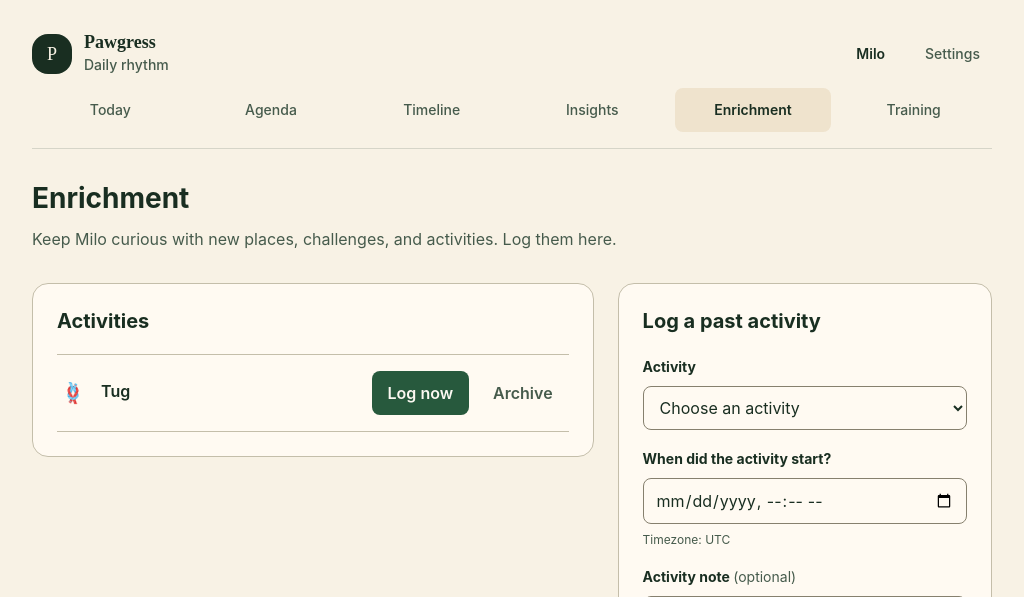
EnrichmentPage › maps archived races and mutation failures to accessible messages
The width and height of the screenshot is (1024, 597).
Click the button with aria-label "Log Tug now" at (420, 393), box x1=372 y1=371 x2=469 y2=415
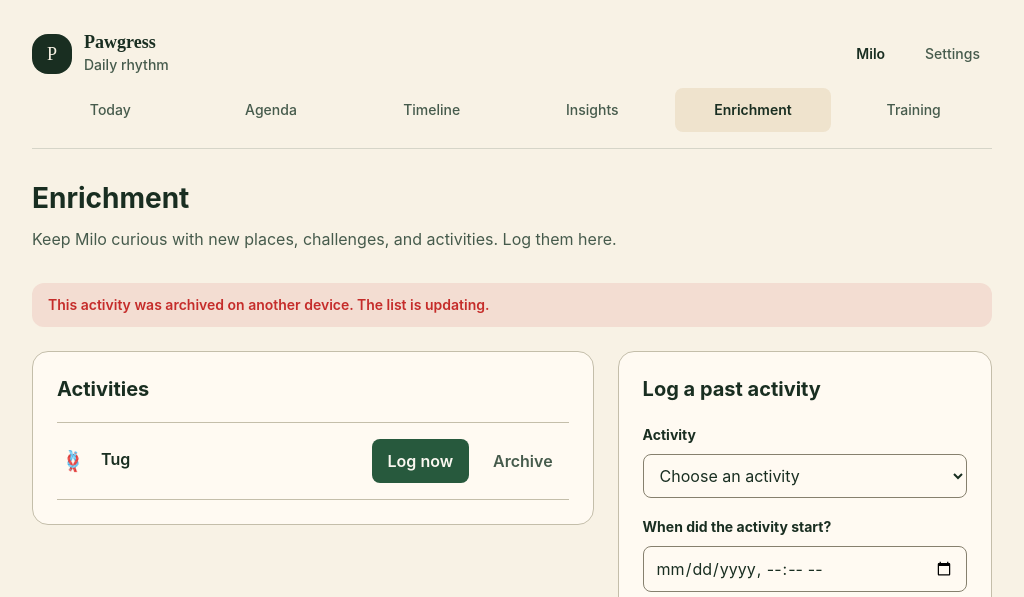
Expected: the button with aria-label "Log Tug now" is shown, x1=372 y1=439 x2=469 y2=483
Expected: the message shows "archived on another device", x1=48 y1=296 x2=489 y2=313
